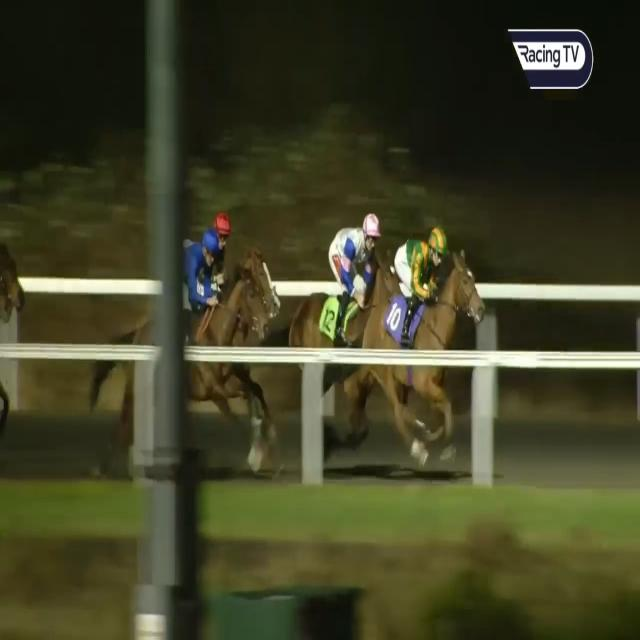horses-racing: (372, 222, 478, 452), (172, 226, 255, 432), (298, 215, 387, 396), (211, 209, 279, 334)
